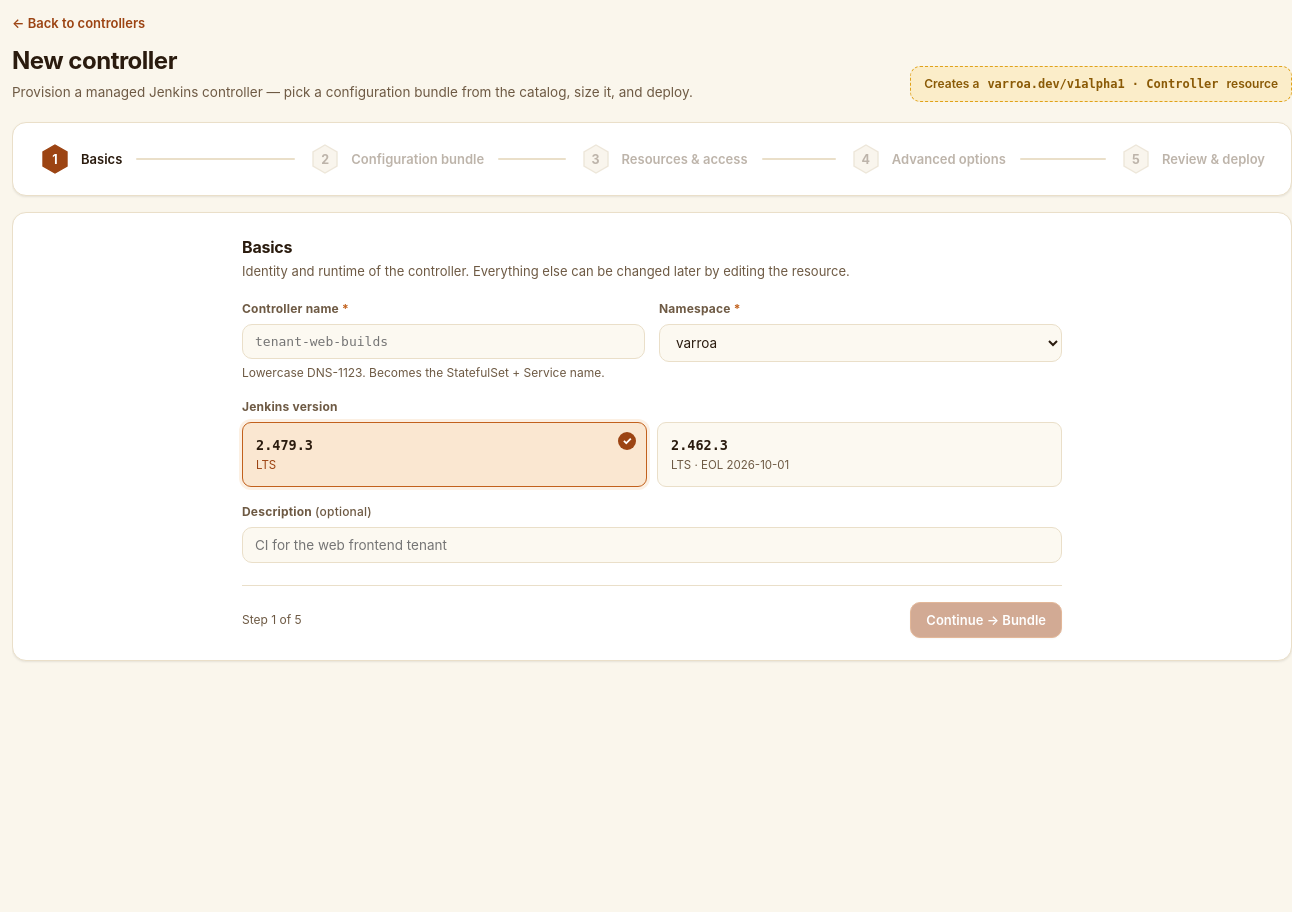
Test: ControllerWizard › can go back from step 2
Step 1. Type "my-ctrl" into the field with placeholder "tenant-web-builds" → [444, 341], box [242,324,645,359]
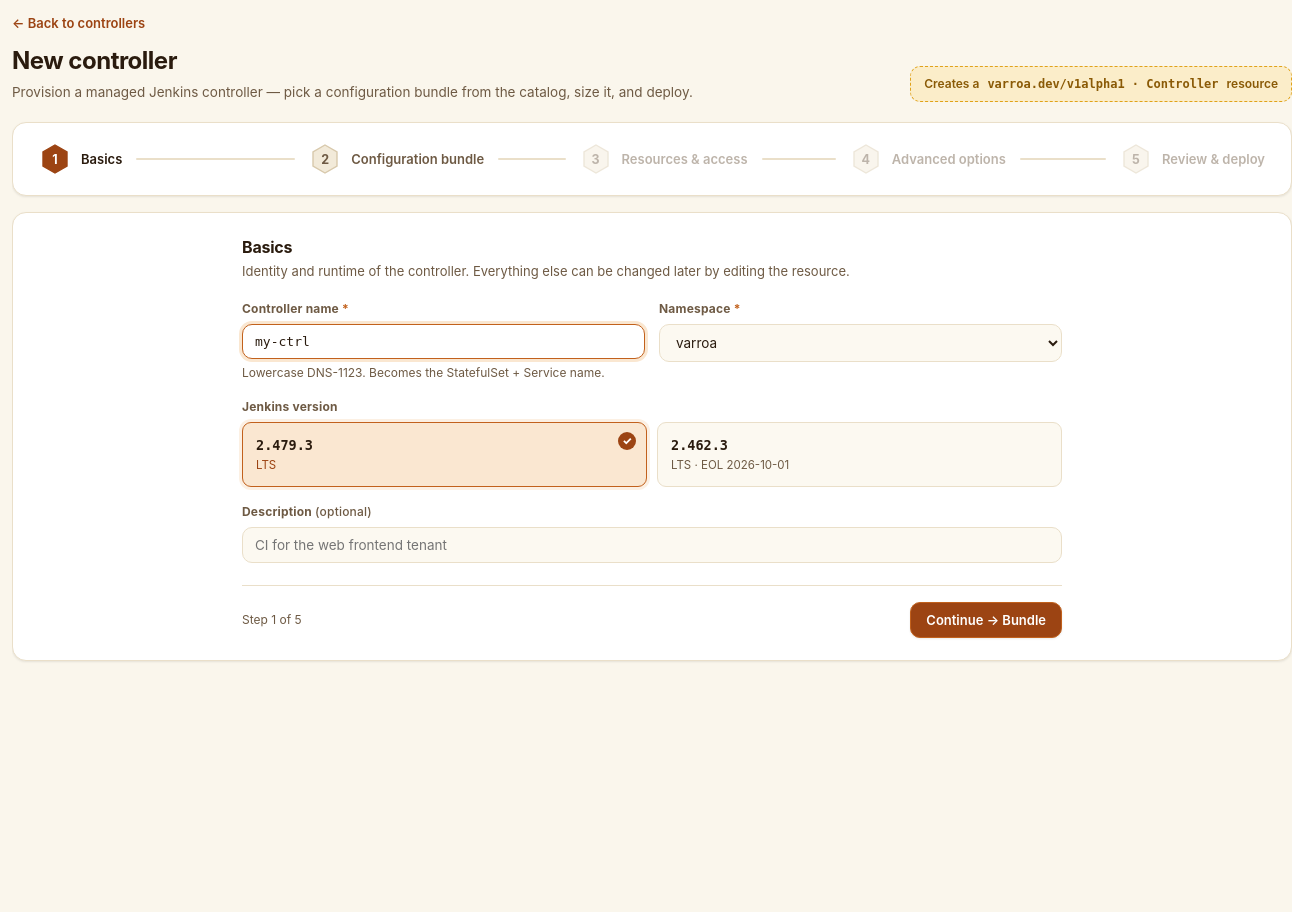
Step 2. Click the button "Continue → Bundle" → [986, 620], box [910,602,1062,638]
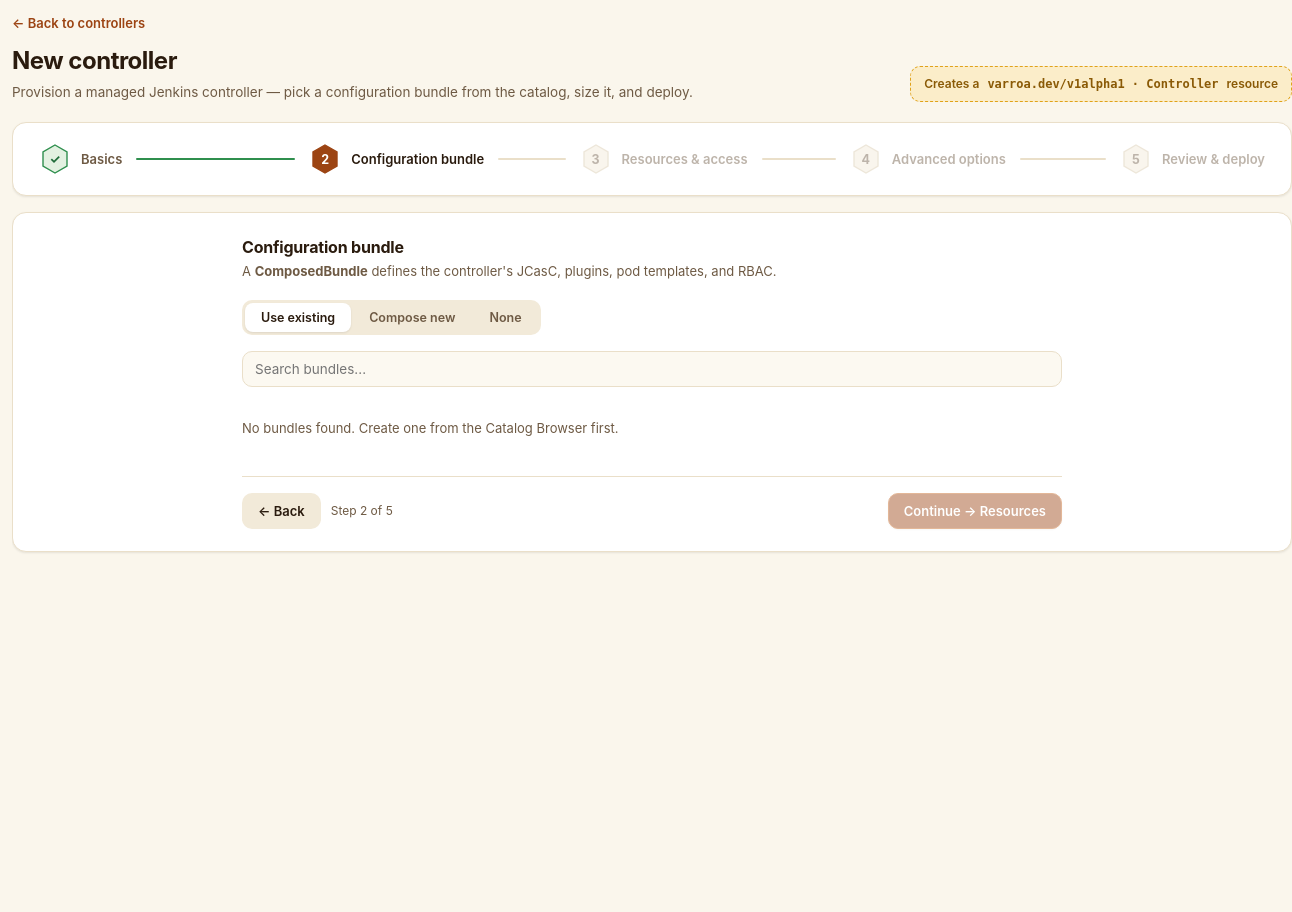
Step 3. Click the button "← Back" → [281, 511], box [242,493,321,529]
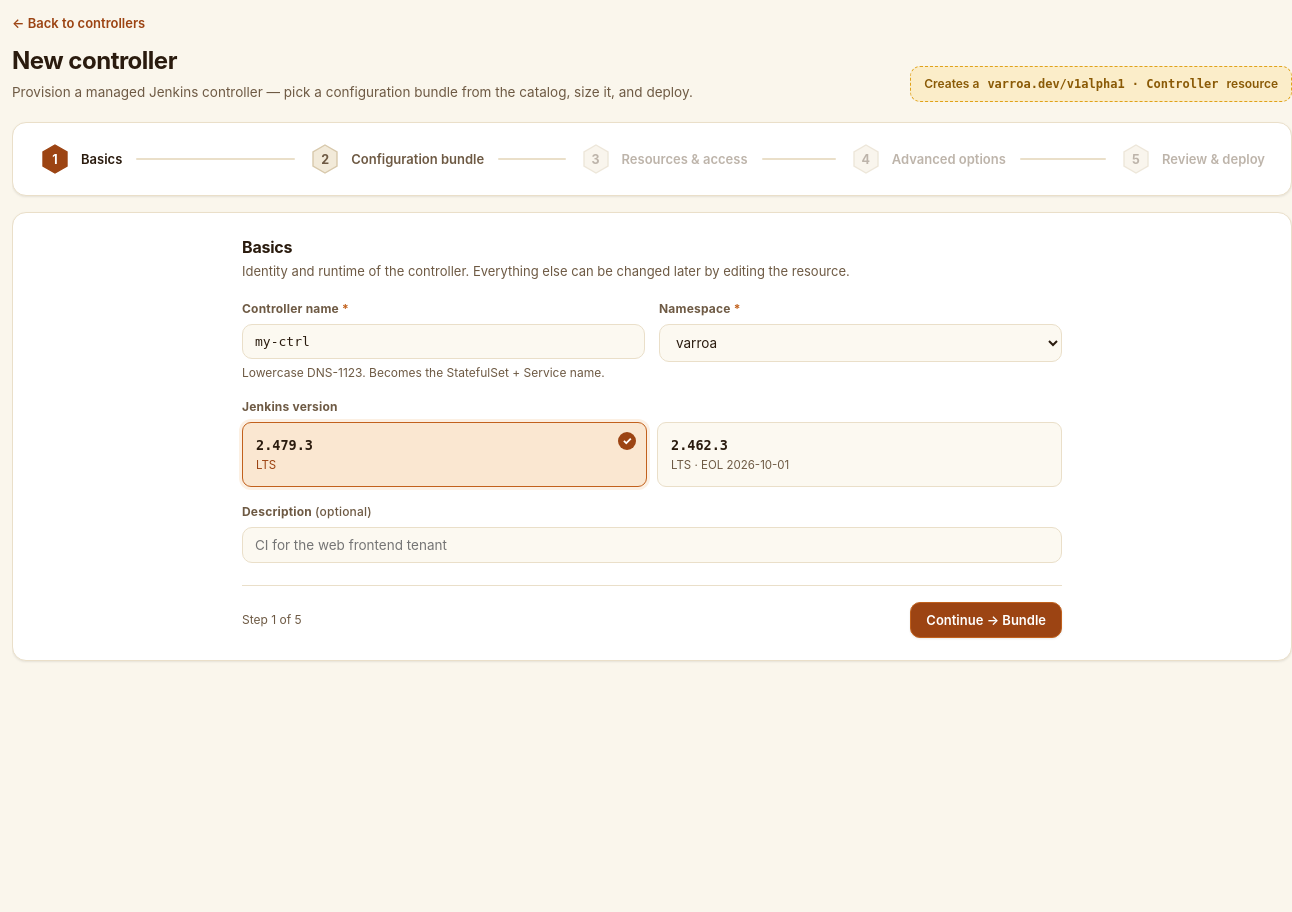
Check: the field with placeholder "tenant-web-builds" is shown, box [242,324,645,359]
